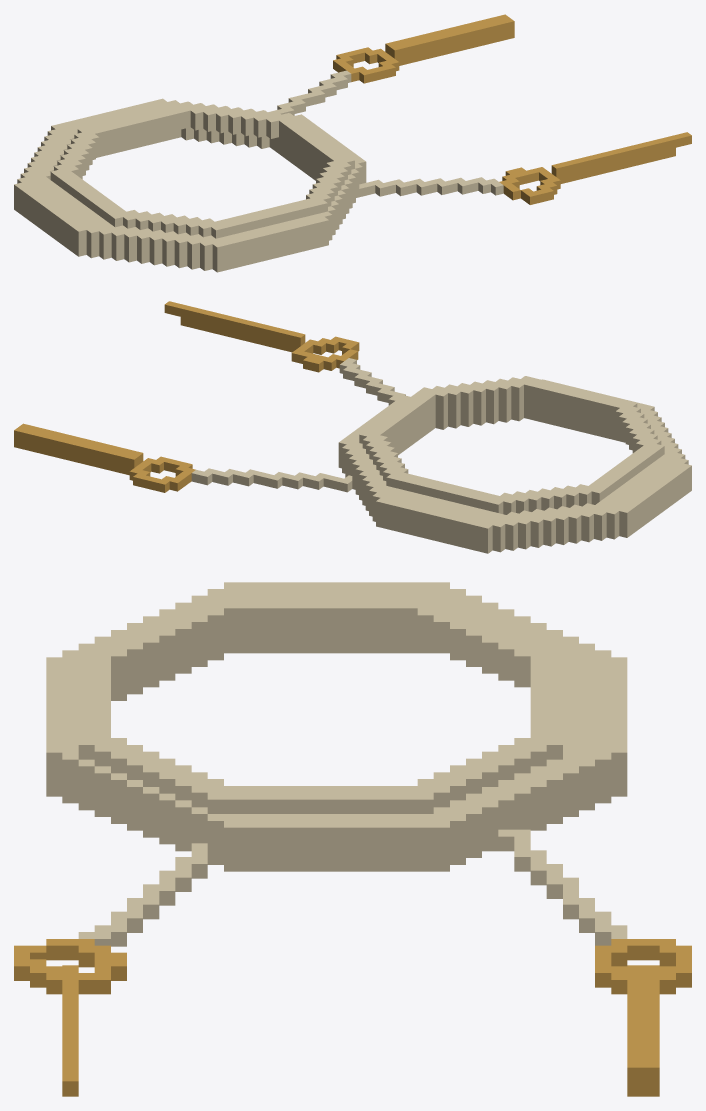
The model's file is tripwire.glb.
3 renders of one model, top to bottom at view 1: azimuth 30°, elevation 25°; view 2: azimuth 150°, elevation 25°; view 3: azimuth 270°, elevation 25°, orthographic. The views are drawn at different scales.
Parts seen in each view (by area): view 1: tripwire:compound; view 2: tripwire:compound; view 3: tripwire:compound.
Boxes of the visible parts, x1,y1,x2,y2 form: tripwire:compound: (14,14,691,272); tripwire:compound: (14,301,691,553); tripwire:compound: (14,582,691,1096).
Bounding box in the file's own units: 0.142 × 0.008 × 0.084.
